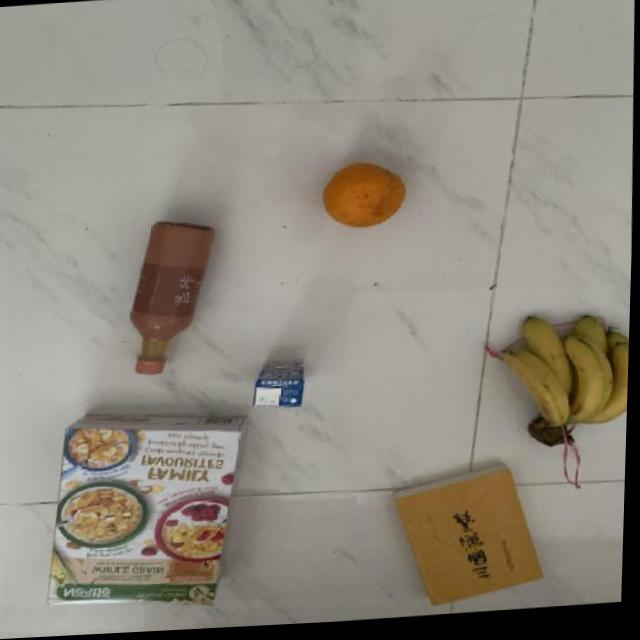Banana: (500, 307, 632, 455)
Book: (386, 463, 554, 614)
Cerealbox: (43, 403, 258, 619)
Orange: (317, 159, 410, 234)
